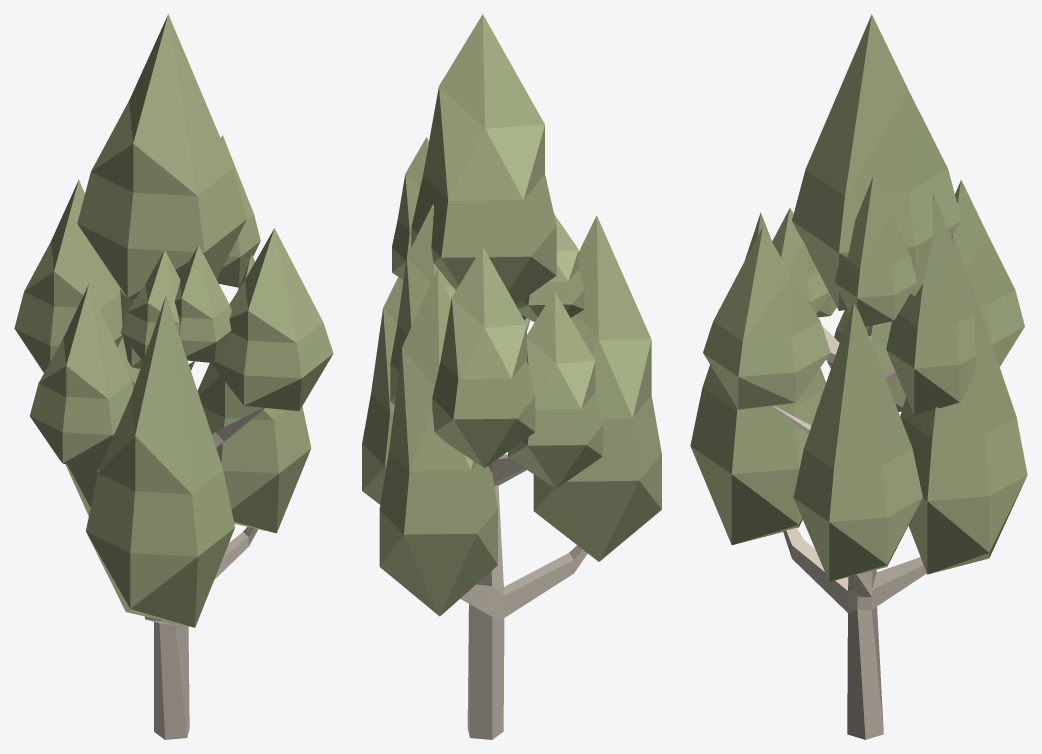
Rendered from Birch1.fbx.
3 views of the same model, side by side, from view 1: azimuth 30°, elevation 25°; view 2: azimuth 150°, elevation 25°; view 3: azimuth 270°, elevation 25° (orthographic).
Parts seen in each view (by area): view 1: Birch1; view 2: Birch1; view 3: Birch1.
Part boxes in pixels (<box>): Birch1: <box>14,14,333,739</box>; Birch1: <box>362,14,661,739</box>; Birch1: <box>690,14,1027,739</box>.
Size of the model in its own units: 8.31 by 23.45 by 10.
